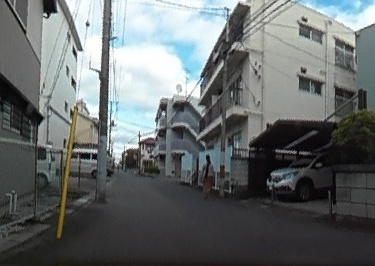person: (200, 151, 217, 197)
